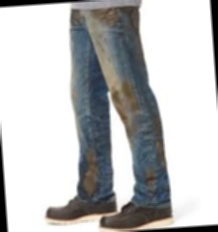earth: (112, 82, 137, 113), (153, 119, 166, 164), (84, 150, 95, 191), (96, 7, 117, 26), (145, 170, 155, 188), (73, 9, 80, 22)
